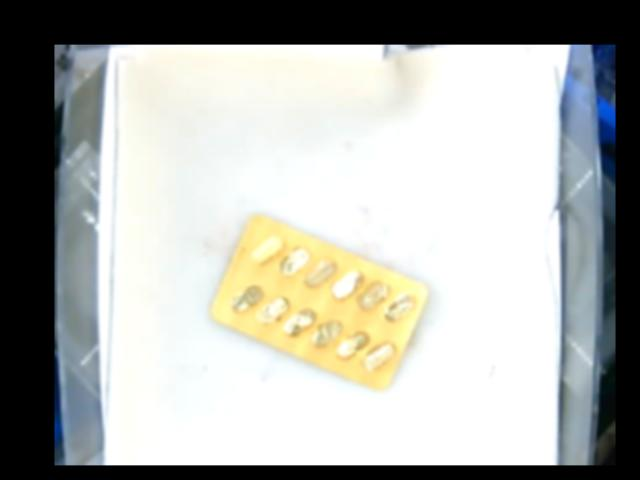Medicine: (212, 218, 426, 390)
